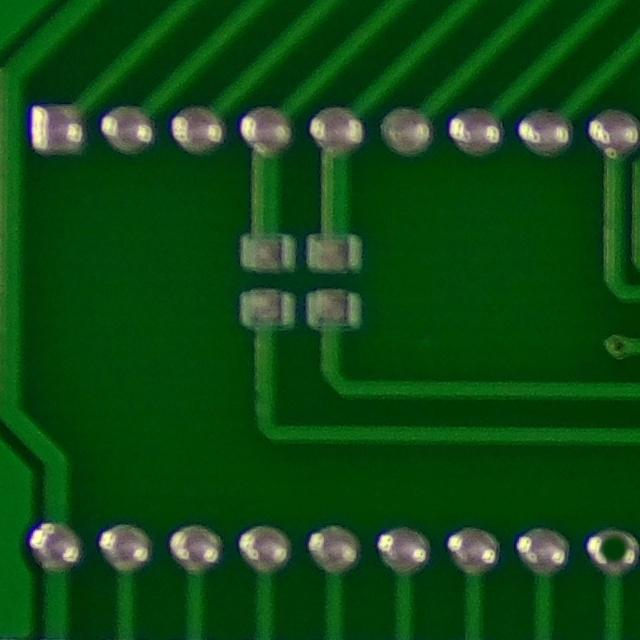missing_hole: (582, 519, 640, 582)
